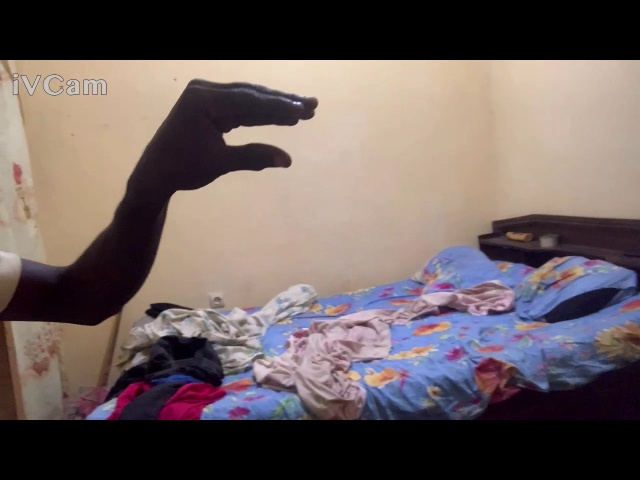non: (147, 71, 326, 195)
